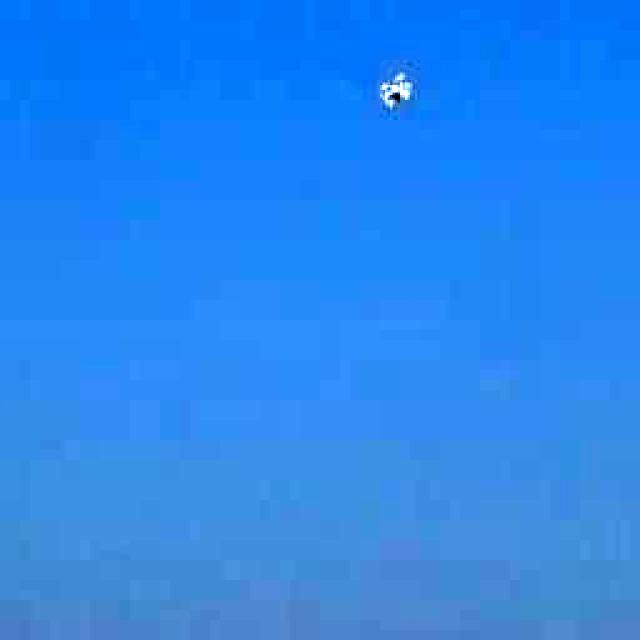bird: (349, 48, 436, 132)
